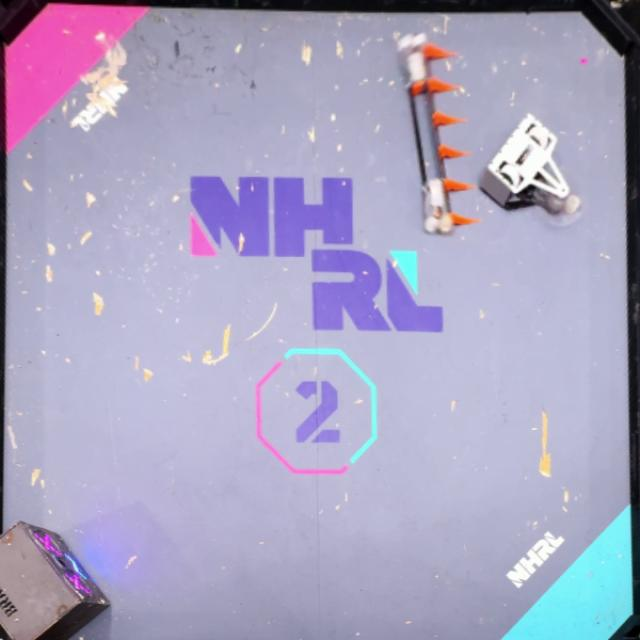housebot: (0, 522, 115, 640)
robot: (393, 32, 478, 233), (481, 111, 582, 214)
